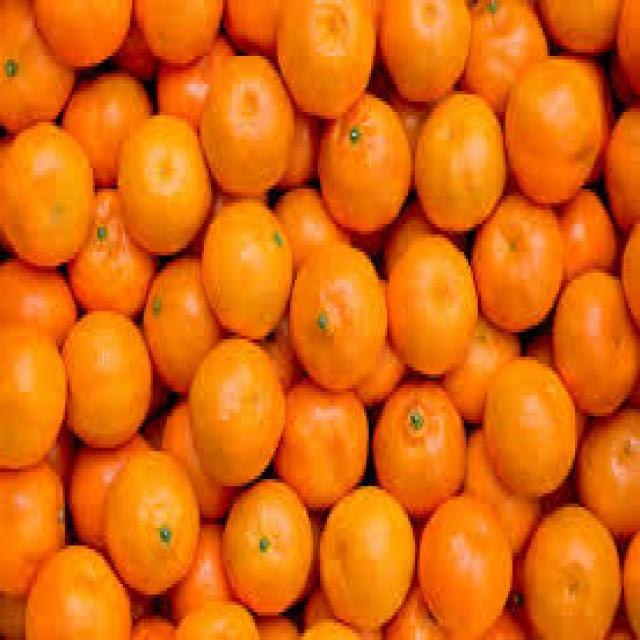organic waste: (0, 0, 638, 637), (501, 49, 605, 196), (185, 332, 283, 486), (285, 238, 385, 385), (369, 374, 466, 518), (418, 489, 512, 636), (315, 482, 413, 622), (480, 353, 575, 497), (316, 87, 410, 231), (0, 115, 90, 265), (104, 451, 200, 591), (58, 308, 153, 448), (468, 189, 564, 325), (524, 500, 619, 637), (272, 374, 366, 511), (218, 472, 311, 609), (197, 49, 288, 189), (550, 269, 638, 413), (116, 112, 209, 248), (413, 88, 503, 228), (387, 231, 473, 371), (65, 185, 155, 318), (274, 0, 373, 112), (60, 66, 153, 182), (461, 420, 538, 560), (67, 427, 151, 552), (0, 311, 65, 472), (21, 538, 127, 636), (144, 248, 213, 392), (375, 0, 468, 101), (158, 395, 230, 521), (0, 455, 63, 598), (572, 406, 638, 542), (0, 0, 70, 126), (454, 0, 547, 94), (158, 518, 236, 626), (510, 486, 568, 626), (441, 318, 522, 416), (153, 31, 237, 116), (274, 182, 348, 276), (383, 192, 466, 273), (0, 252, 77, 339), (188, 171, 264, 252), (378, 74, 429, 192), (355, 276, 403, 399), (30, 0, 129, 59), (297, 570, 380, 637), (132, 0, 222, 59), (603, 98, 638, 231), (559, 186, 614, 270), (274, 101, 320, 186), (538, 0, 617, 49), (167, 598, 257, 637), (102, 24, 158, 80), (220, 0, 274, 56), (385, 580, 438, 636), (614, 0, 638, 98), (619, 213, 638, 329), (608, 42, 633, 105), (624, 518, 638, 630), (128, 608, 176, 636), (294, 616, 360, 636), (482, 608, 526, 636), (250, 612, 297, 637), (0, 591, 26, 633), (524, 322, 552, 360)
